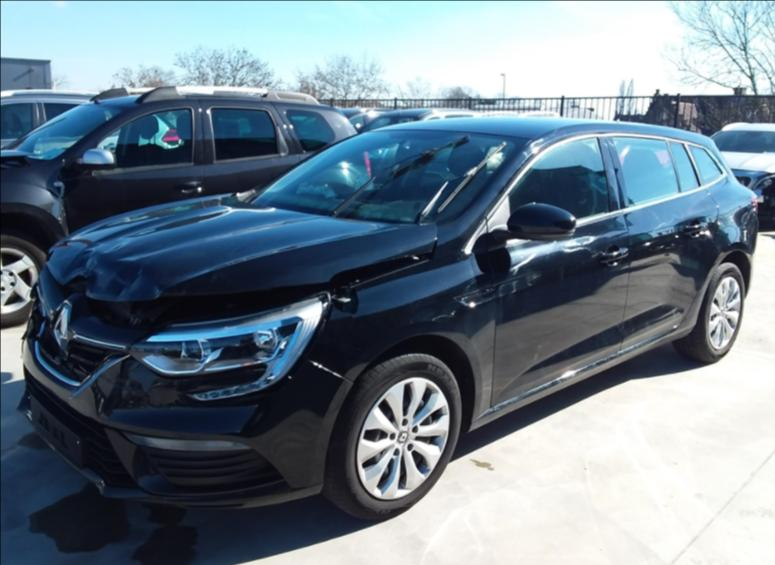Broken part: (66, 353, 353, 487), (48, 239, 436, 331), (126, 295, 324, 401), (24, 278, 129, 386)
Dent: (48, 249, 177, 317)
